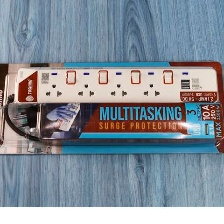book: (0, 60, 224, 156)
three_eye_plug: (10, 65, 220, 108)
